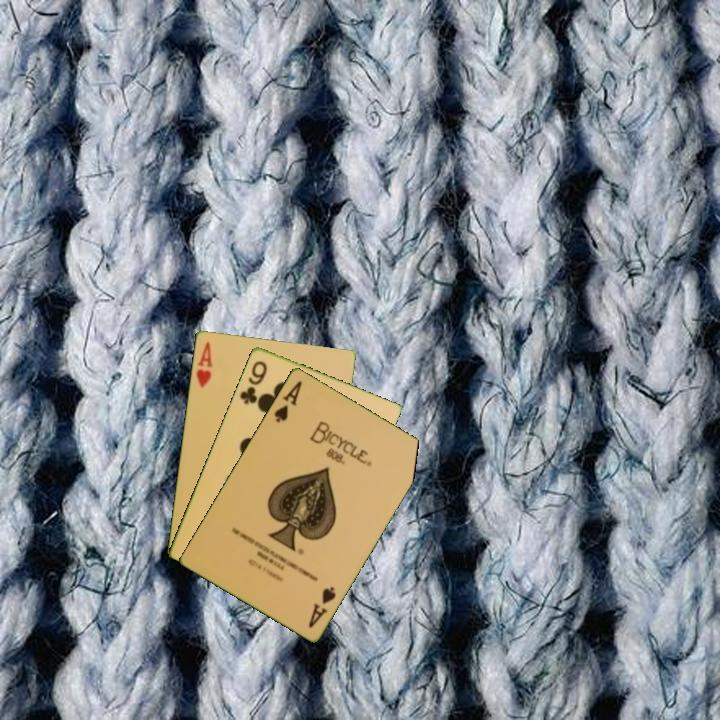9c: (236, 357, 270, 407)
Ah: (192, 338, 215, 390)
As: (270, 377, 305, 425), (305, 582, 339, 631)
